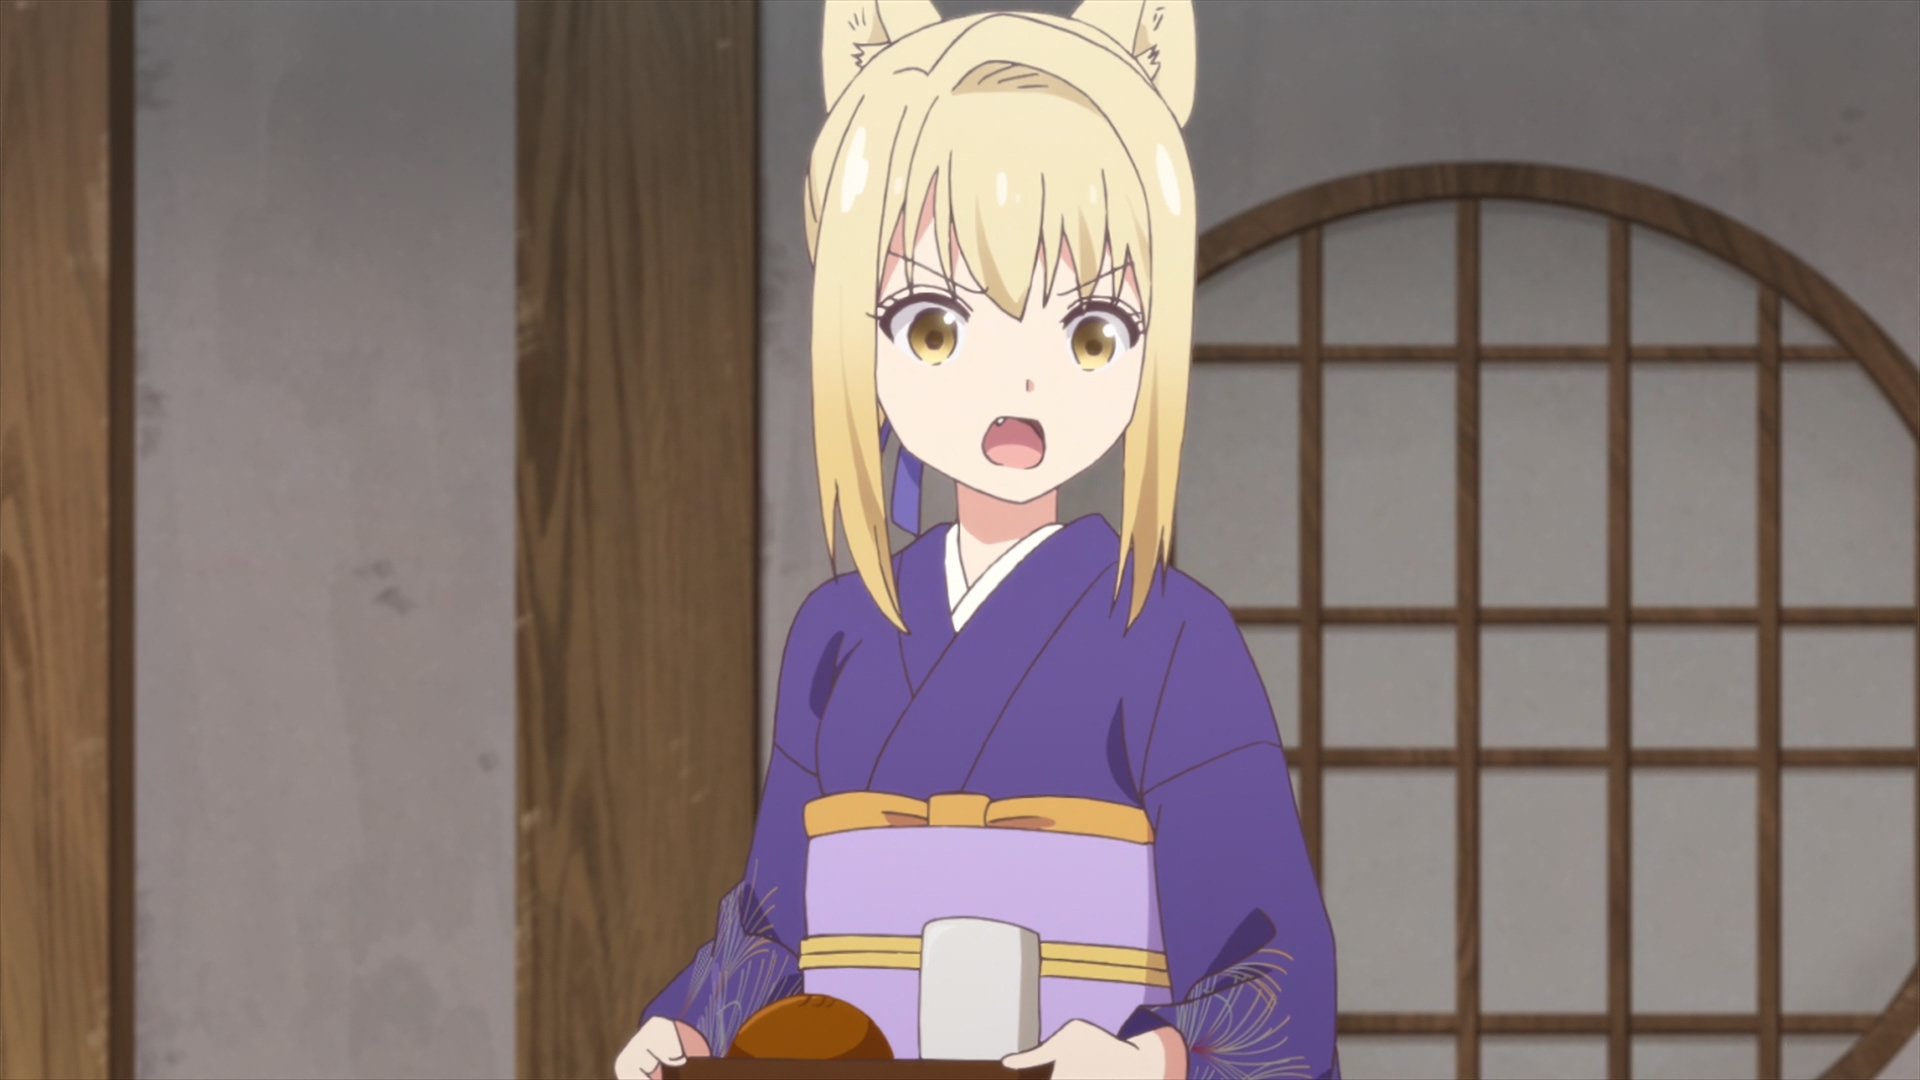桐: (615, 1, 1338, 1080)
